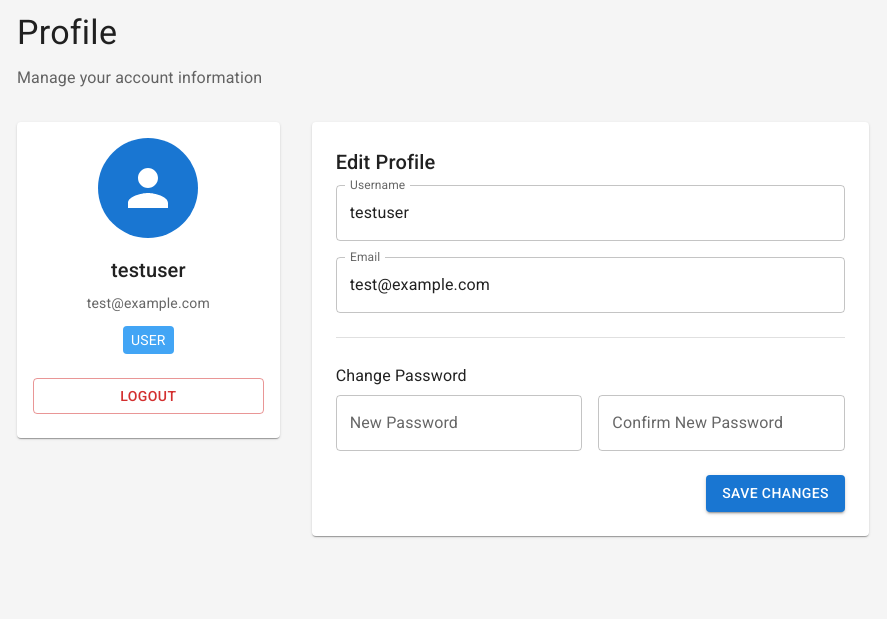
Test: Profile Component › shows error from API failure
The image size is (887, 619).
Expected: the field showing "testuser" is shown, [336, 185, 845, 241]
Click the button "Save Changes": click(776, 494) [706, 476, 845, 512]
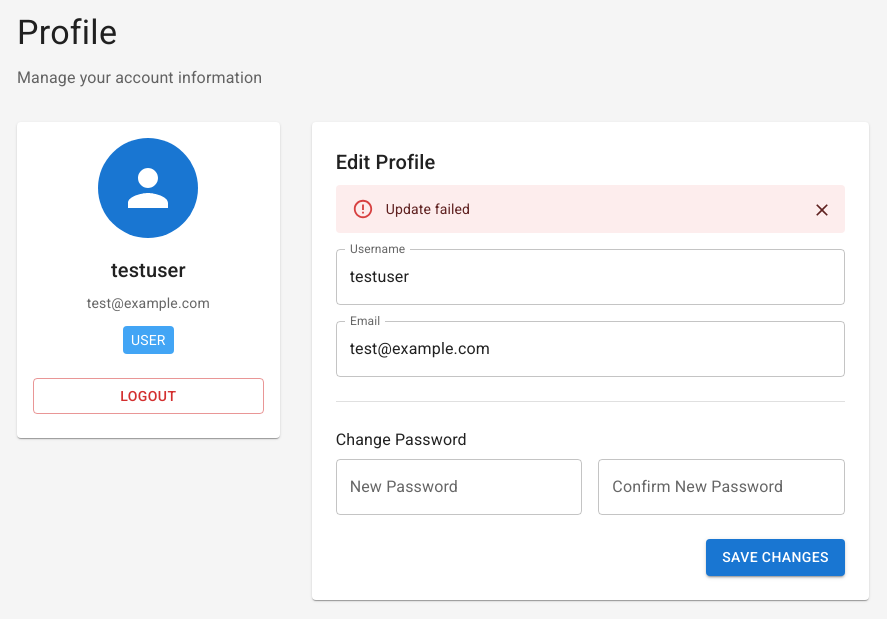
Expected: the text "Update failed" is shown, [386, 201, 470, 217]
